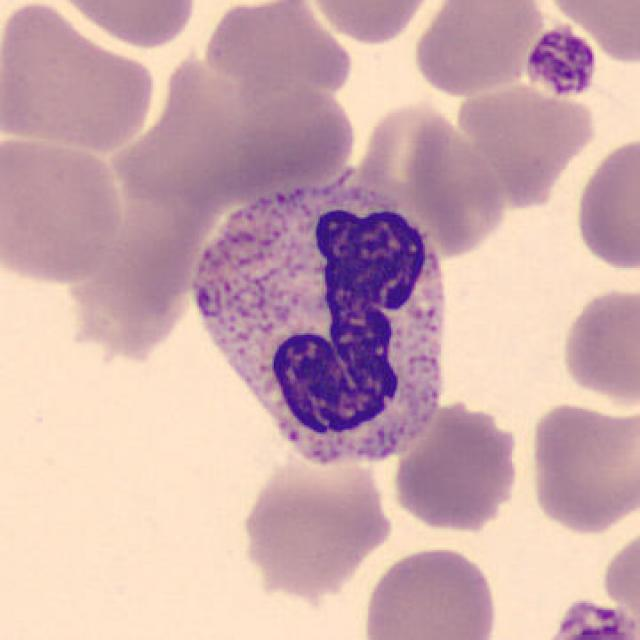Neutrophil: (181, 171, 466, 483)
Platelets: (523, 23, 601, 100), (546, 590, 640, 640)
RBC: (0, 0, 160, 153), (233, 448, 396, 598), (360, 99, 512, 258), (0, 129, 128, 289), (388, 395, 526, 536), (453, 78, 599, 202), (524, 398, 638, 538), (197, 0, 354, 95), (357, 541, 503, 640), (226, 84, 357, 188), (409, 0, 546, 99), (556, 282, 638, 407), (570, 130, 640, 275), (50, 0, 201, 51), (540, 0, 639, 63), (306, 0, 439, 46)
